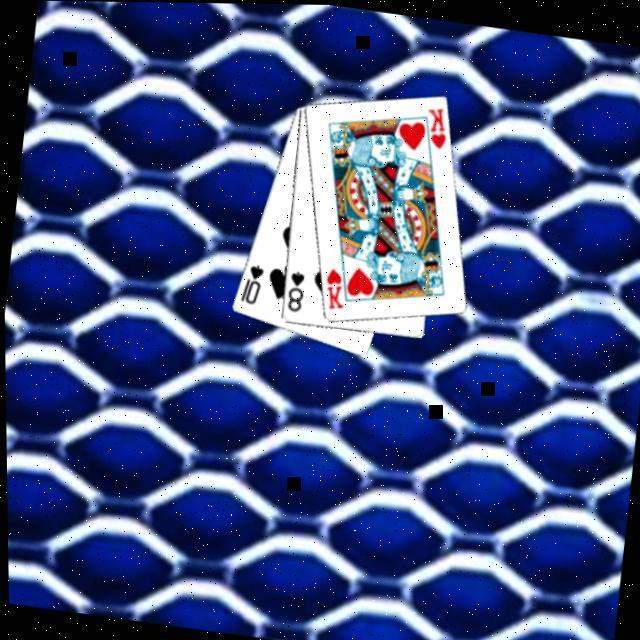10S: (235, 257, 267, 306)
8S: (284, 264, 308, 312)
KH: (318, 261, 350, 311), (420, 100, 452, 150)
